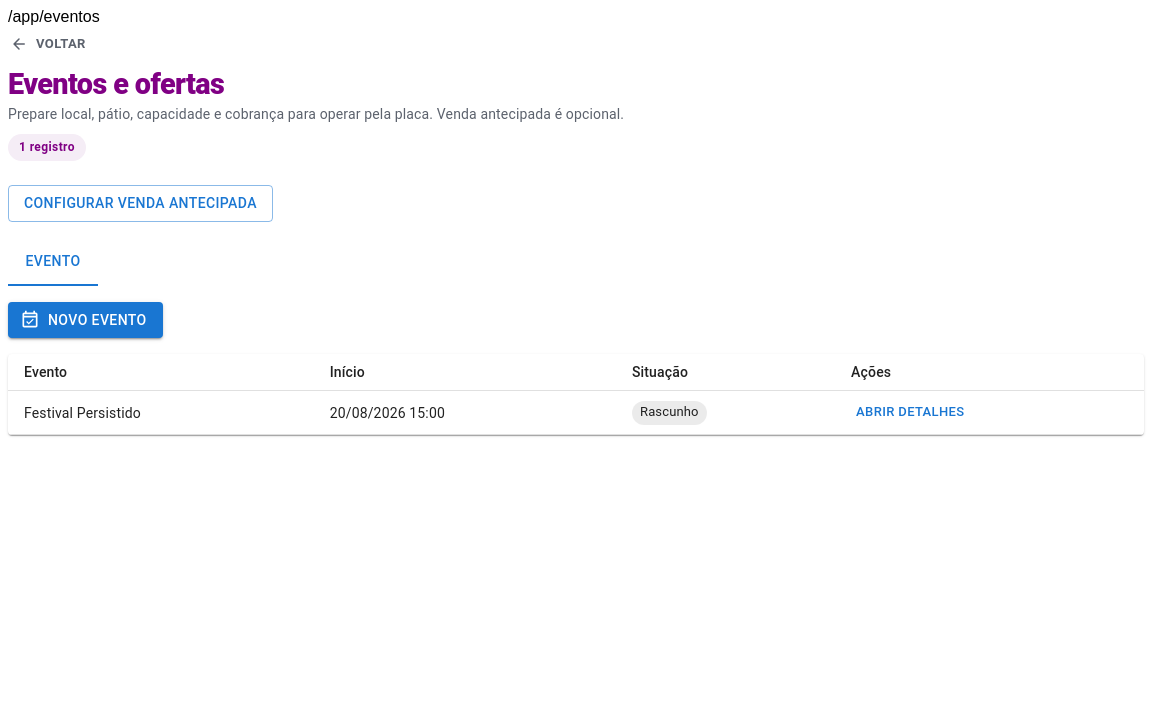
Test case: EventsPage › mantém a listagem separada e permite abrir o evento e voltar
Expected: the heading "Ciclo de vida" is not shown
Step 1. Click the button with aria-label "Abrir detalhes de Festival Persistido" → {"x": 910, "y": 413}, box [851,397,970,428]
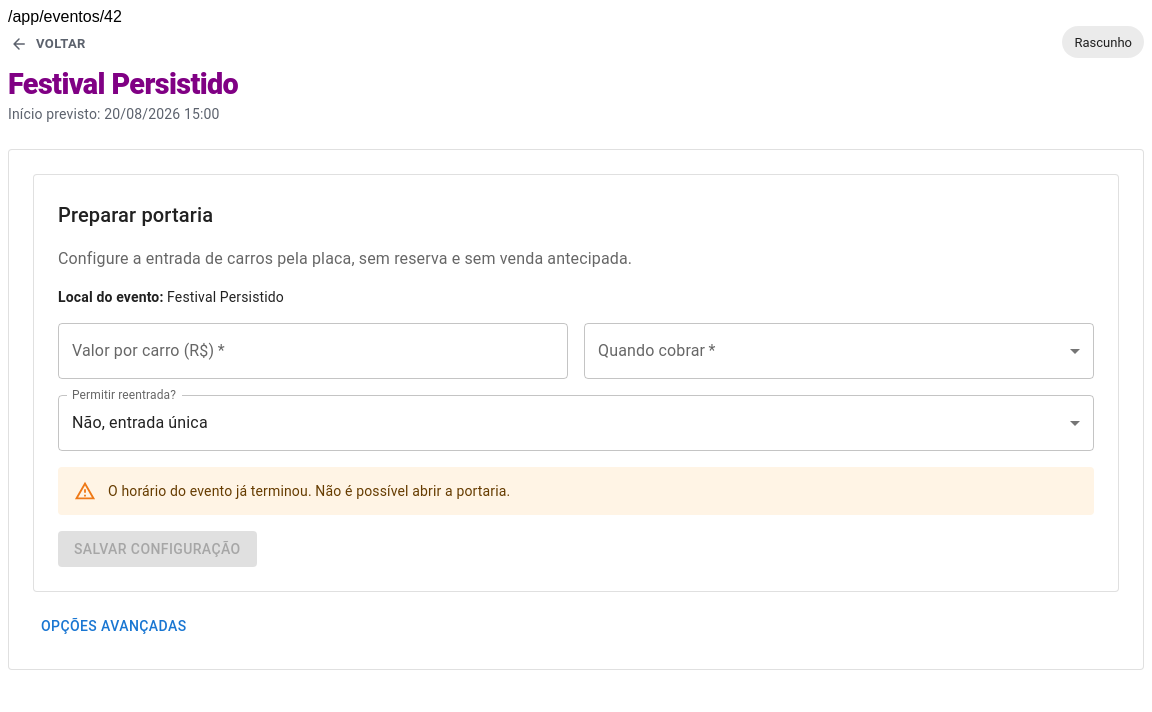
Now the heading "Festival Persistido" is shown, box [8,68,238,101]
Step 2. Click the button "Opções avançadas" → {"x": 114, "y": 627}, box [33,608,194,645]
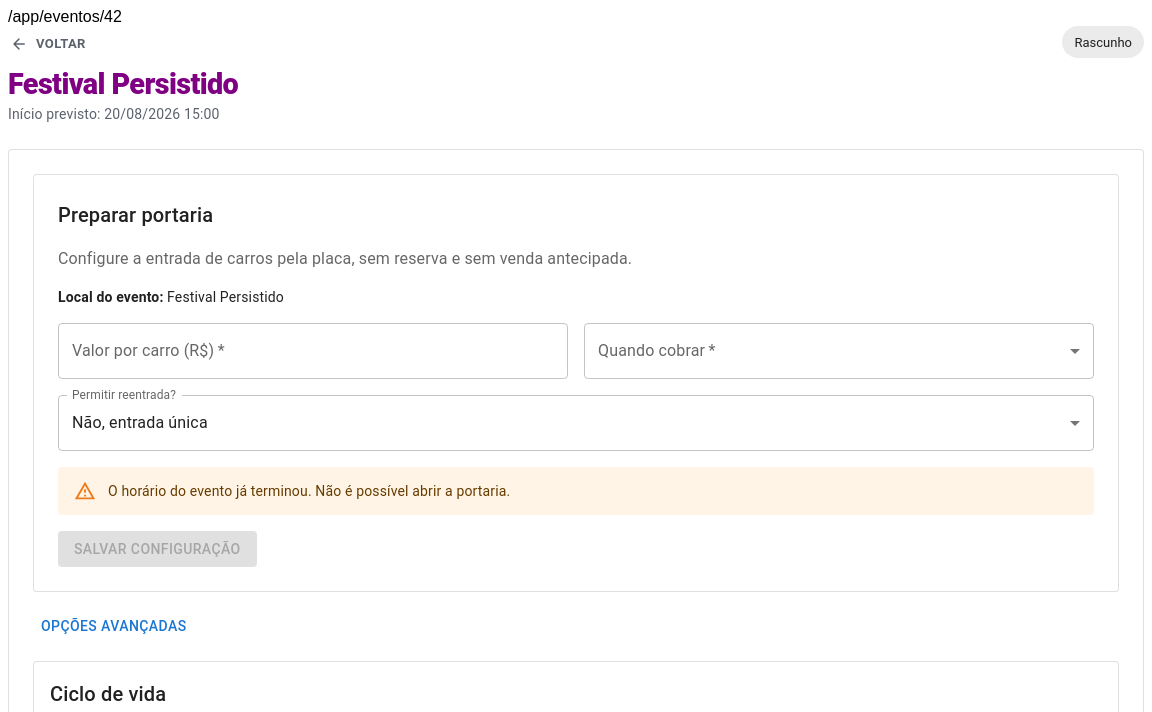
Expected: the text "Rascunho" is shown, [1074,34,1132,50]
Now the heading "Ciclo de vida" is shown, box [50,682,166,706]
Step 3. Click the button "Voltar" → {"x": 49, "y": 44}, box [8,26,90,62]
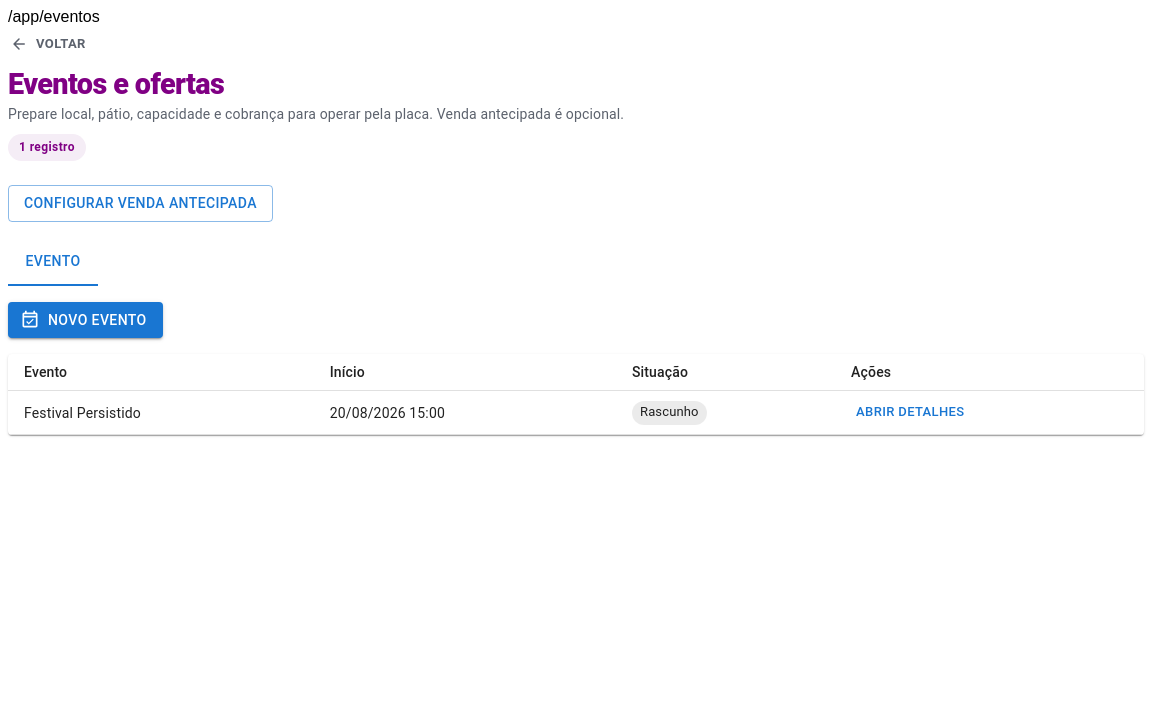
Now the heading "Eventos e ofertas" is shown, box [8,67,224,101]
Now the heading "Ciclo de vida" is gone
